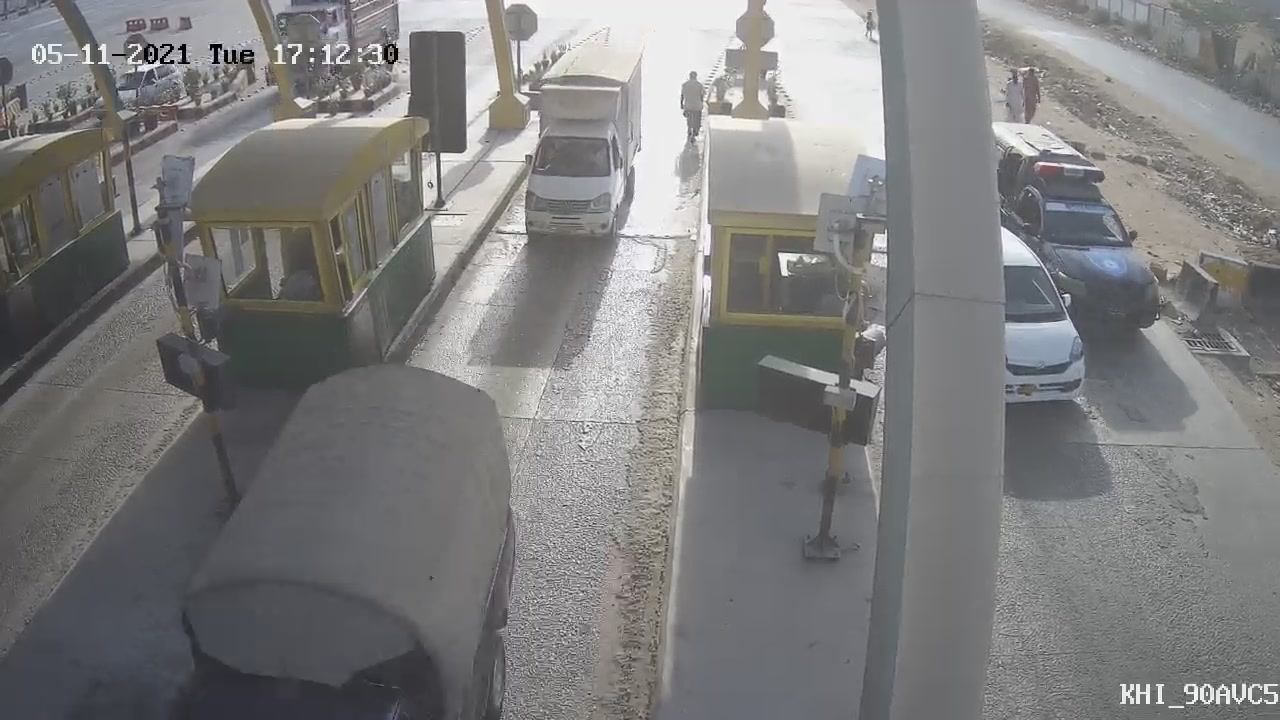F2: (495, 27, 661, 270)
